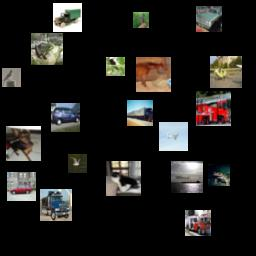airplane: (210, 56, 242, 88), (159, 122, 188, 151)
automobile: (51, 103, 80, 132), (7, 172, 36, 201), (196, 6, 222, 32)
bird: (2, 68, 21, 87), (106, 57, 125, 76), (68, 154, 87, 173)
cat: (106, 161, 141, 196)
deer: (133, 12, 149, 28)
dog: (6, 126, 41, 161)
frog: (31, 33, 63, 65), (208, 164, 230, 186)
ship: (171, 161, 203, 193)
truck: (196, 91, 231, 126), (40, 189, 72, 221), (53, 3, 82, 32), (185, 210, 211, 236), (127, 100, 153, 126)
